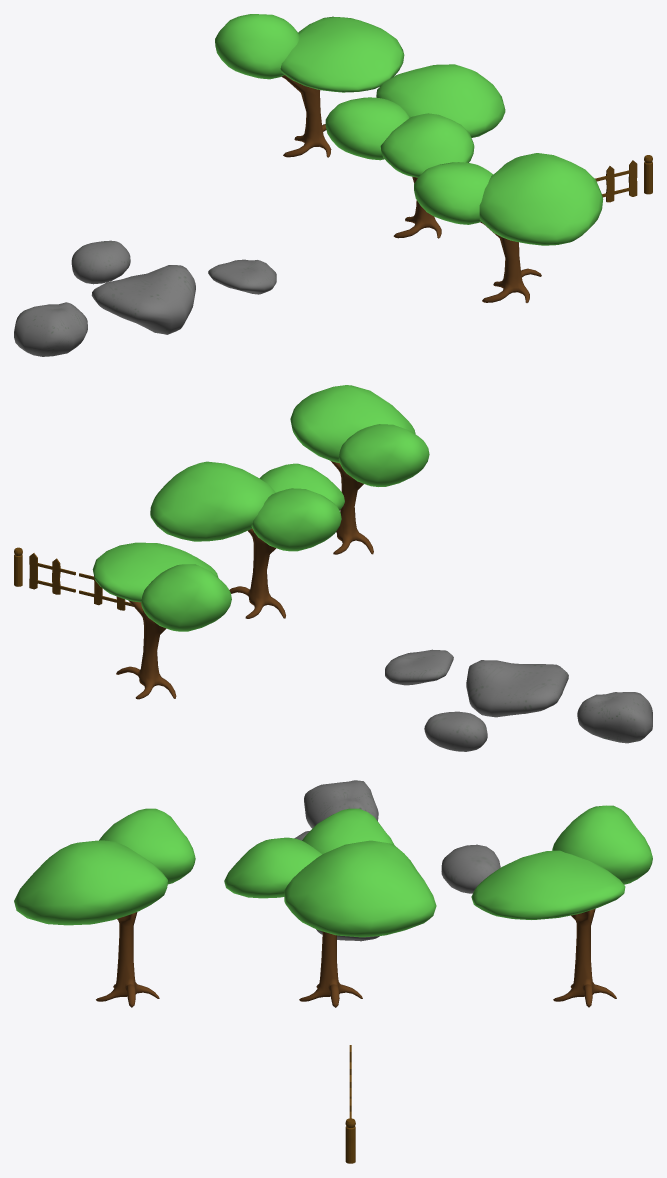
The model's file is Outdoor_Mesh.fbx.
3 views of the same model, one above another, from view 1: azimuth 30°, elevation 25°; view 2: azimuth 150°, elevation 25°; view 3: azimuth 270°, elevation 25° (orthographic). The views are drawn at different scales.
Visible parts, largest first — view 1: Tree_2, Tree_3, Tree_1, Rock_3, Rock_4, Rock_2, Rock_1, Fence_DoubleV2; view 2: Tree_2, Tree_3, Tree_1, Rock_3, Rock_4, Rock_2, Rock_1, Fence_DoubleV2; view 3: Tree_2, Tree_3, Tree_1, Rock_4, Rock_2.
Boxes of the visible parts, x1,y1,x2,y2 form: Tree_2: (325,64,505,238); Tree_3: (414,153,603,302); Tree_1: (215,14,404,157); Rock_3: (91,265,195,334); Rock_4: (14,302,87,356); Rock_2: (71,240,130,284); Rock_1: (208,259,276,294); Fence_DoubleV2: (595,160,637,202); Tree_2: (150,461,344,618); Tree_3: (290,385,429,554); Tree_1: (92,542,231,699); Rock_3: (466,660,568,717); Rock_4: (577,692,652,743); Rock_2: (424,711,487,751); Rock_1: (385,649,453,685); Fence_DoubleV2: (29,553,75,594); Tree_2: (224,808,436,1007); Tree_3: (14,808,195,1007); Tree_1: (471,805,652,1007); Rock_4: (304,780,378,828); Rock_2: (441,844,500,893).
Bounding box in the file's own units: 16.64 × 4.47 × 12.57.
